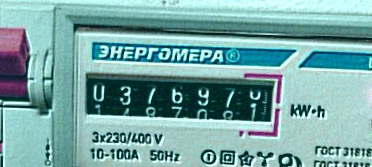0: (91, 81, 105, 103)
1: (248, 102, 259, 122)
3: (119, 86, 133, 107)
6: (170, 83, 185, 106)
7: (144, 83, 159, 107), (222, 87, 237, 110)
9: (196, 85, 210, 107)
screen: (76, 61, 287, 141)
